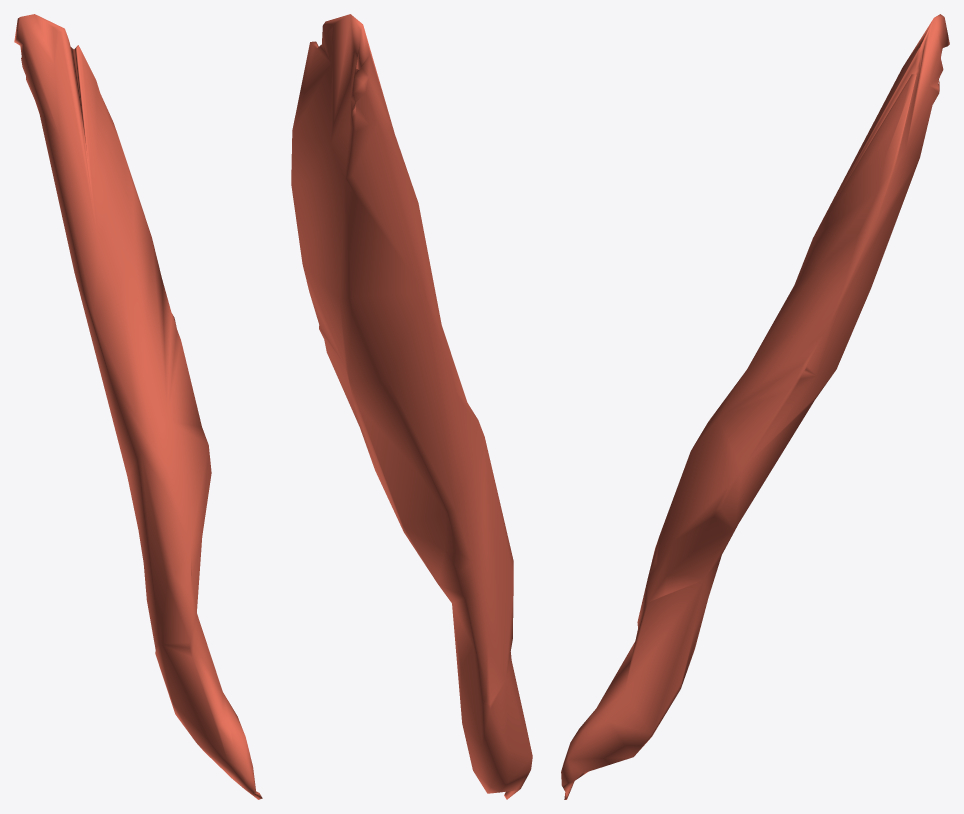
Rendered from palmar-interossei.glb.
3 views of the same model, side by side, from view 1: azimuth 30°, elevation 25°; view 2: azimuth 150°, elevation 25°; view 3: azimuth 270°, elevation 25° (orthographic). The views are drawn at different scales.
Parts seen in each view (by area): view 1: Palmar interossei muscles of hand.r; view 2: Palmar interossei muscles of hand.r; view 3: Palmar interossei muscles of hand.r.
Part boxes in pixels (x1,y1,x2,y2): Palmar interossei muscles of hand.r: (14, 14, 262, 799); Palmar interossei muscles of hand.r: (291, 14, 532, 799); Palmar interossei muscles of hand.r: (561, 14, 949, 799).
Size of the model in its own units: 0.0057 by 0.0386 by 0.0181.
